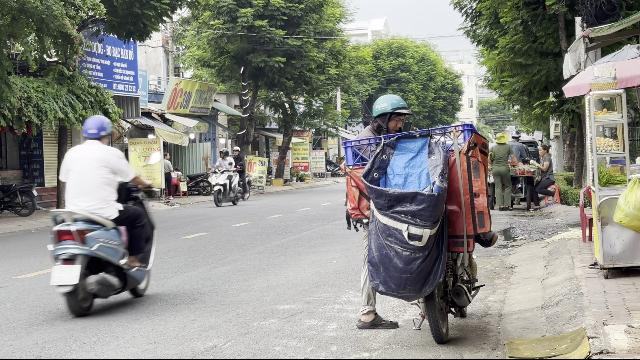helmet: (79, 112, 113, 144)
licenseplate: (51, 265, 81, 285)
motorcyclist: (44, 112, 158, 316)
